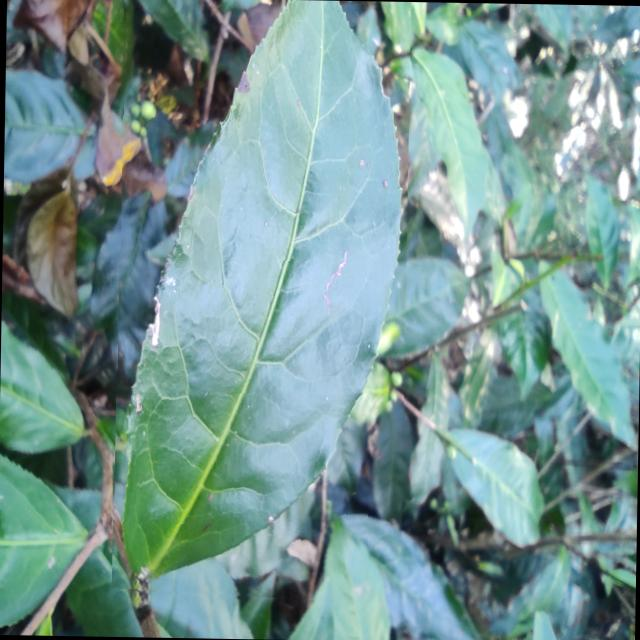Category D(7+ days, Not for Tea): (110, 0, 409, 605)
